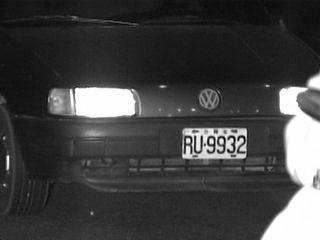plate: (181, 125, 249, 162)
